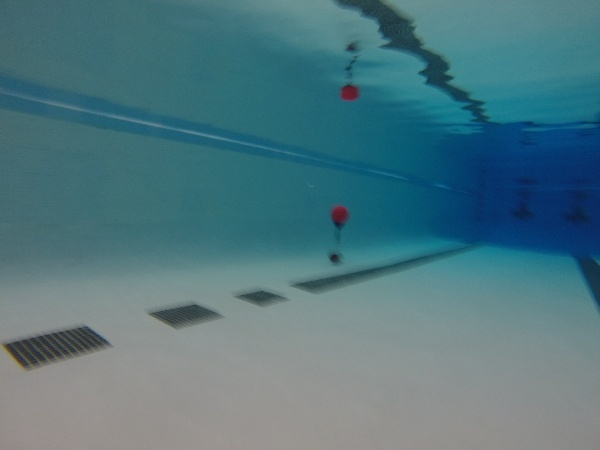buoy_red: (328, 204, 351, 232)
